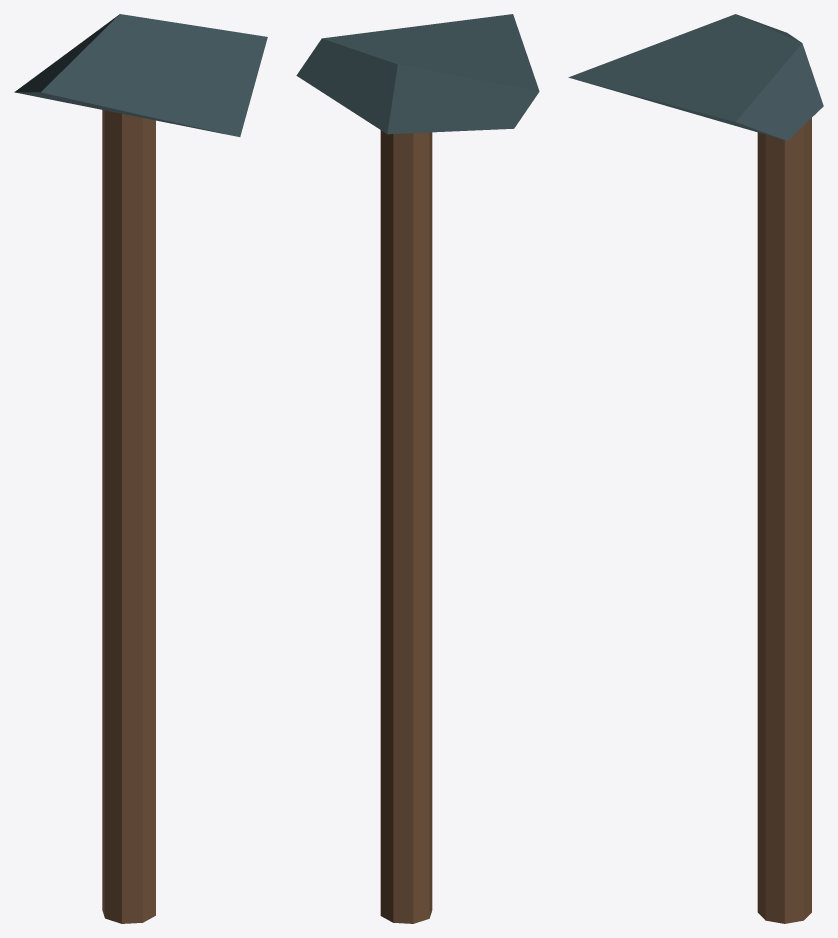
The model's file is Hoe.glb.
3 views of the same model, side by side, from view 1: azimuth 30°, elevation 25°; view 2: azimuth 150°, elevation 25°; view 3: azimuth 270°, elevation 25° (orthographic). The views are drawn at different scales.
Visible parts, largest first — view 1: Handle, Cube; view 2: Handle, Cube; view 3: Handle, Cube.
Part boxes in pixels (x1,y1,x2,y2): Handle: (102, 110, 155, 923); Cube: (14, 14, 267, 136); Handle: (380, 130, 432, 923); Cube: (296, 14, 539, 134); Handle: (757, 118, 811, 923); Cube: (568, 14, 823, 140).
Bounding box in the file's own units: 0.2828 × 1.06 × 0.2828.
